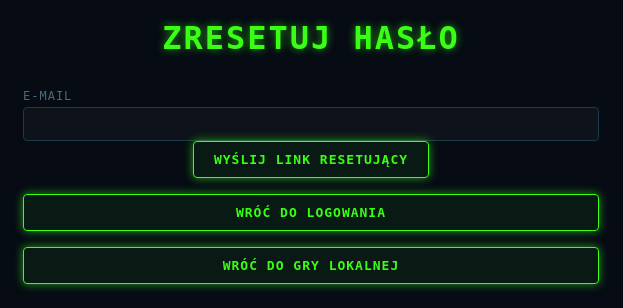
Test: ForgotPasswordScreen › sends the reset email and shows a confirmation
In the field labelled "E-mail": {"x": 311, "y": 124} [23, 107, 599, 141], type "ola@example.com"
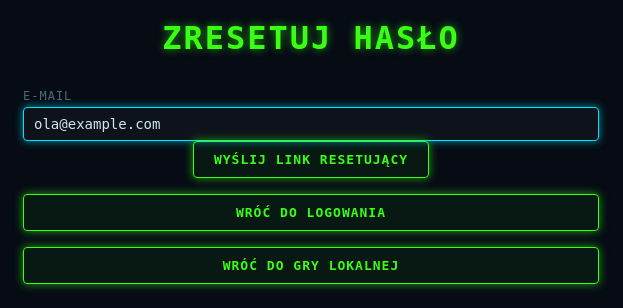
Click the button "Wyślij link resetujący": {"x": 311, "y": 160} [193, 141, 429, 178]
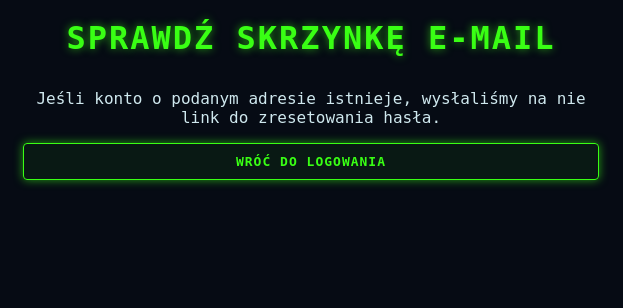
Expected: the text "Jeśli konto o podanym adresie istnieje, wysłaliśmy na nie link do zresetowania hasła." is shown, [36, 89, 586, 127]
